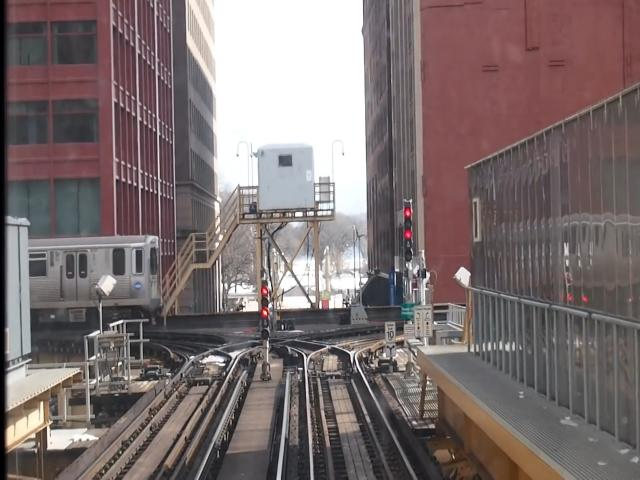signal light: (402, 199, 417, 263), (263, 280, 271, 343)
